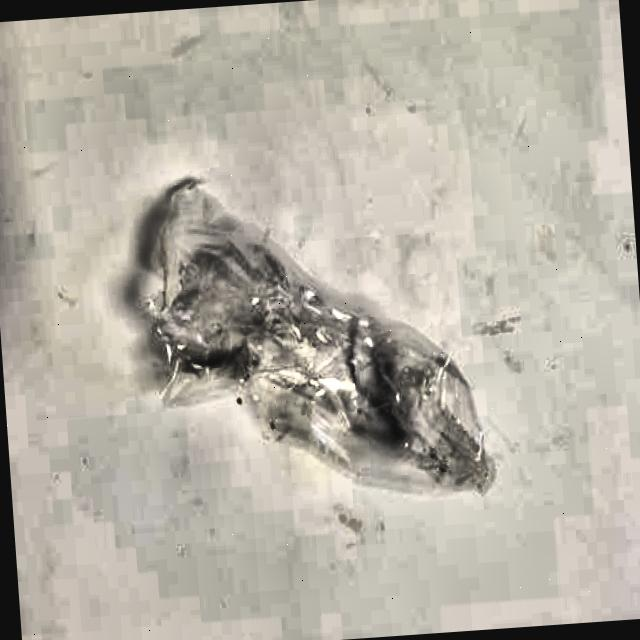plastic: (140, 157, 494, 512)
